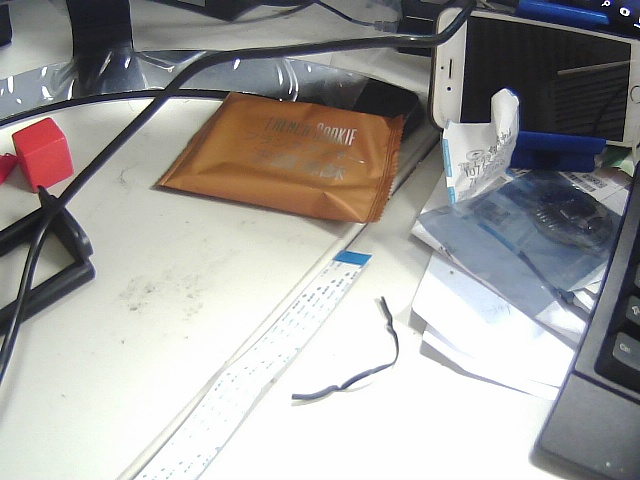frenchcookie: (141, 79, 416, 241)
